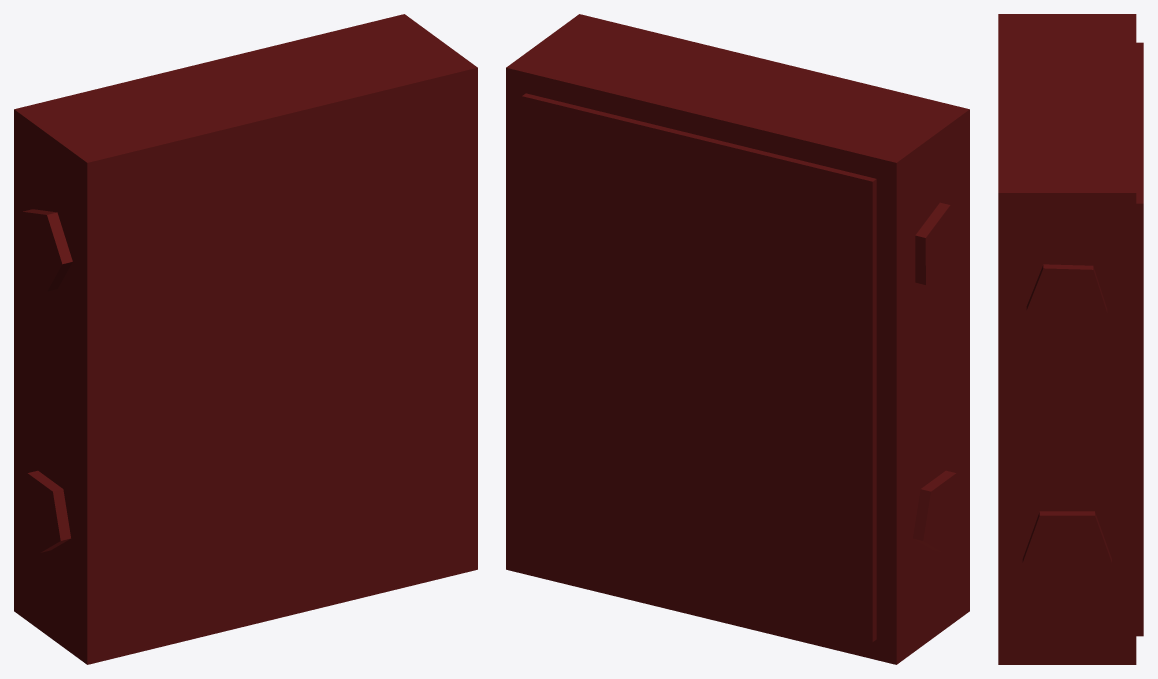
Rendered from eletricity_panel.fbx.
3 views of the same model, side by side, from view 1: azimuth 30°, elevation 25°; view 2: azimuth 150°, elevation 25°; view 3: azimuth 270°, elevation 25° (orthographic). The views are drawn at different scales.
Visible parts, largest first — view 1: Cylinder.004; view 2: Cylinder.004; view 3: Cylinder.004.
Boxes of the visible parts, <box> form: Cylinder.004: <box>14,14,477,664</box>; Cylinder.004: <box>506,14,969,664</box>; Cylinder.004: <box>998,14,1143,664</box>.
Size of the model in its own units: 53.61 by 63.64 by 17.5.
